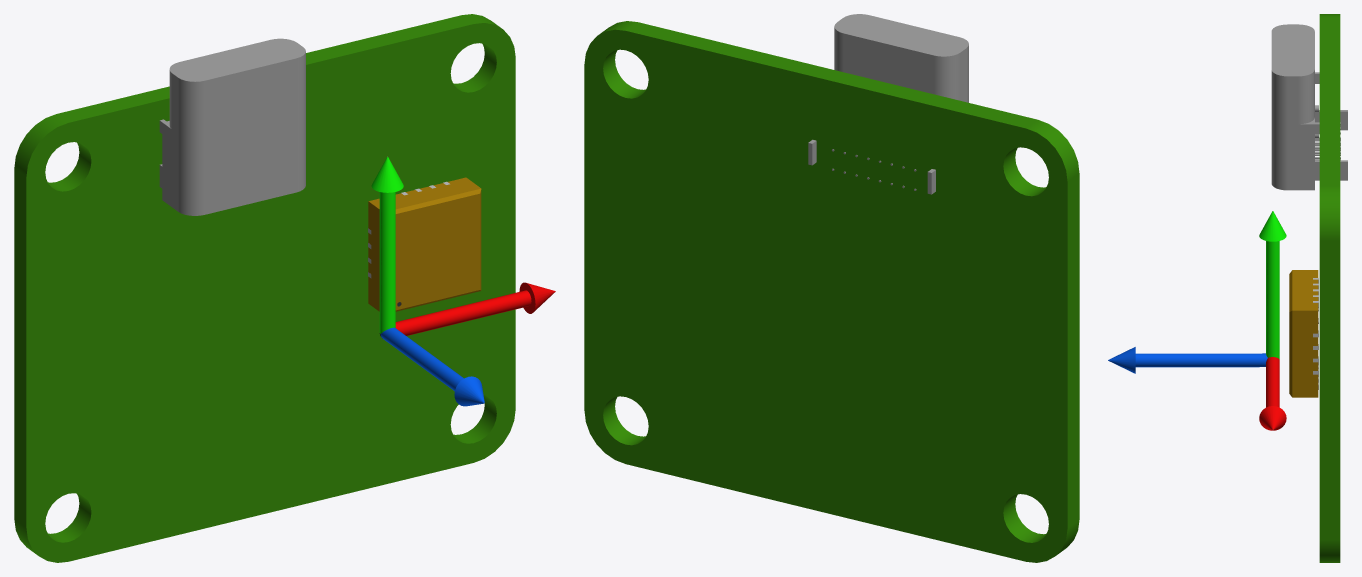
File: TR_IMU16607.obj
The picture shows the model from 3 angles, left to right: view 1: azimuth 30°, elevation 25°; view 2: azimuth 150°, elevation 25°; view 3: azimuth 270°, elevation 25°; orthographic projection. The views are drawn at different scales.
Parts seen in each view (by area): view 1: ボディ1:2, ボディ1:1, ボディ10, ボディ1:3; view 2: ボディ1:2, ボディ1:1; view 3: ボディ1:2, ボディ1:1, ボディ1:3, ボディ10.
Part boxes in pixels (left/top/right/bottom): ボディ1:2: left=14, top=14, right=515, bottom=562; ボディ1:1: left=159, top=38, right=305, bottom=215; ボディ10: left=368, top=177, right=481, bottom=311; ボディ1:3: left=371, top=156, right=555, bottom=406; ボディ1:2: left=584, top=21, right=1079, bottom=562; ボディ1:1: left=808, top=14, right=968, bottom=194; ボディ1:2: left=1319, top=14, right=1340, bottom=562; ボディ1:1: left=1271, top=24, right=1347, bottom=190; ボディ1:3: left=1108, top=211, right=1286, bottom=430; ボディ10: left=1289, top=270, right=1318, bottom=397.
Bounding box in the file's own units: 3.59 × 3.25 × 1.75.
